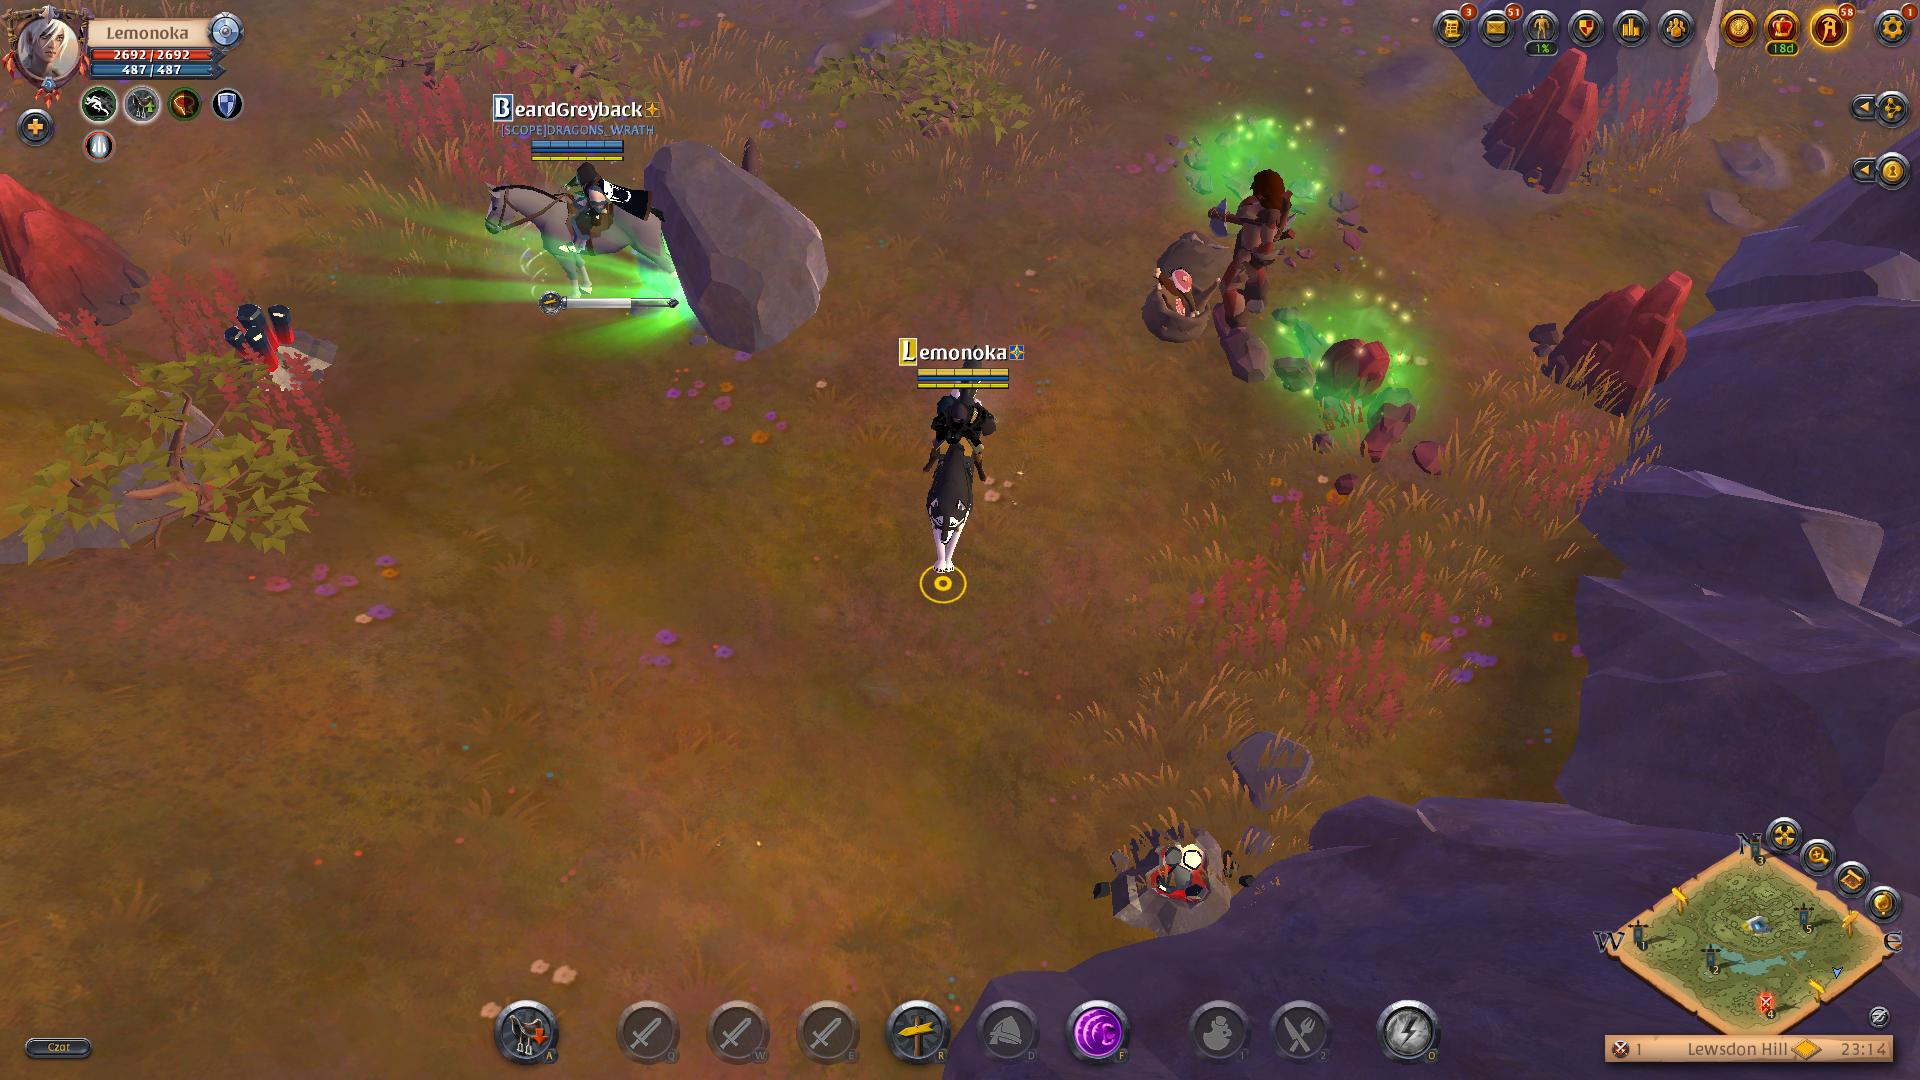rock tier 5: (1535, 265, 1695, 423), (1480, 49, 1604, 195), (216, 302, 339, 400)
